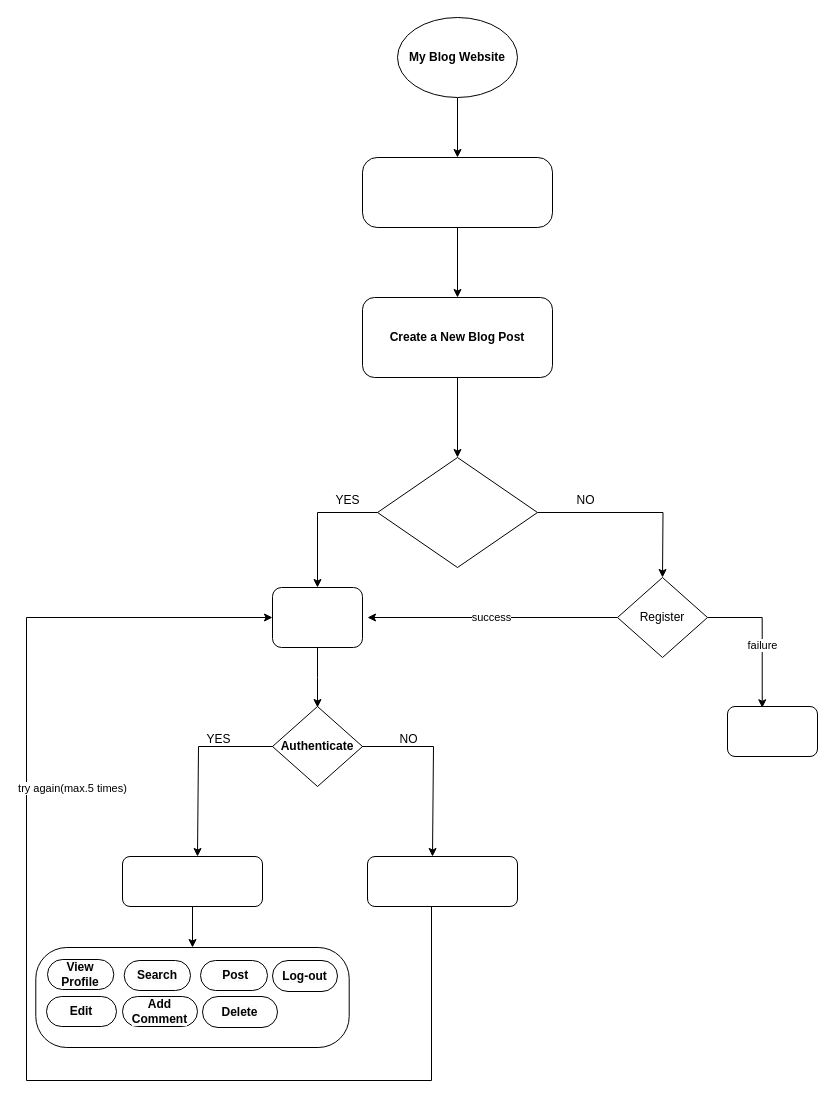
This 835x1106 diagram has some shape labels left out. Here are the shapes that lost their labels. From the top down, the centre of each, then its label:
the point at 457,192: Home Page (View blog posts)
the point at 457,512: Existing User?
the point at 317,617: Login
the point at 772,731: Possible Error Messages
the point at 192,881: Action for Logged-in Users
the point at 442,881: Possible Error Messages a. Incorrect pwd/username
